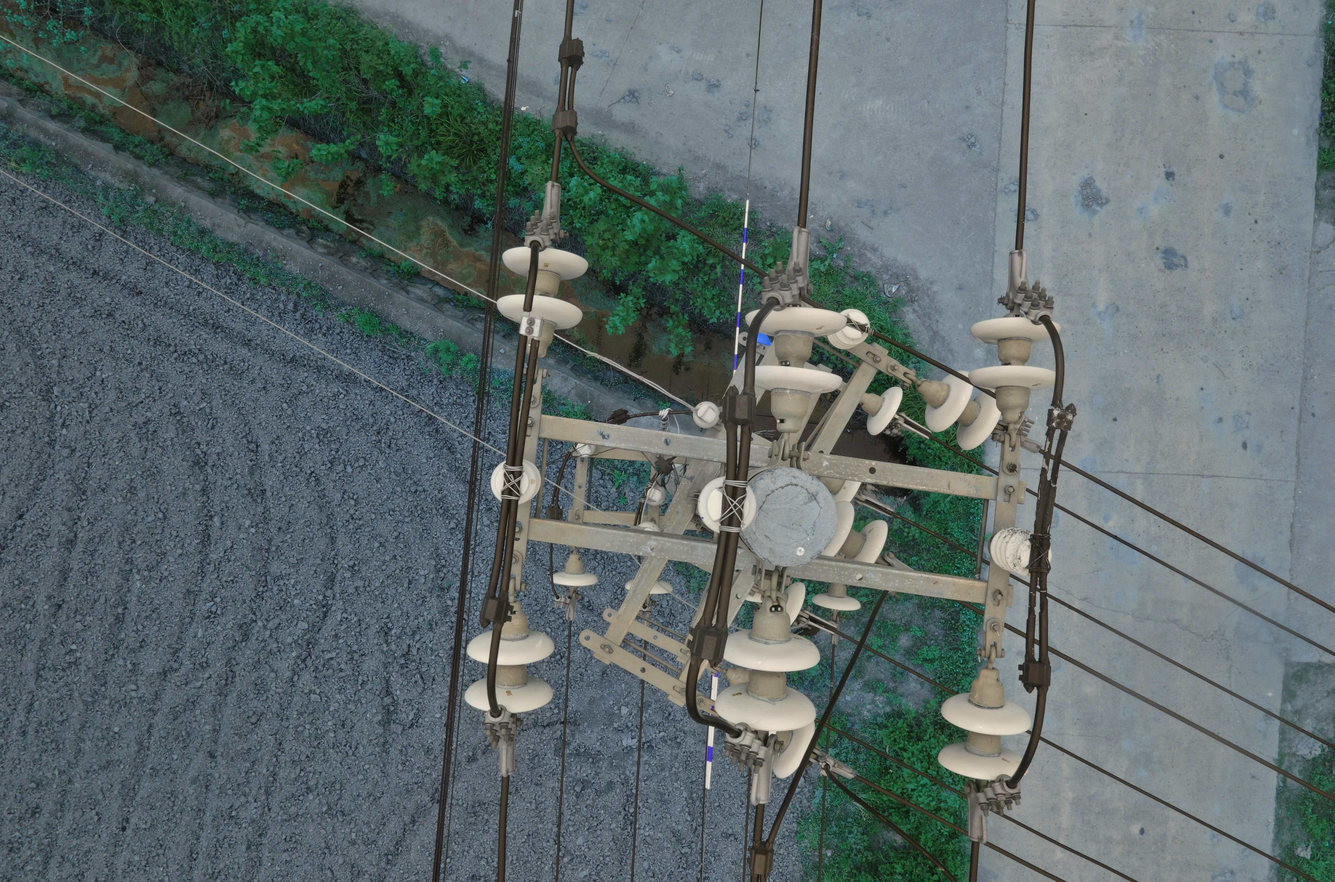severe_soiling_no_discharge_whole: (986, 522, 1057, 581)
